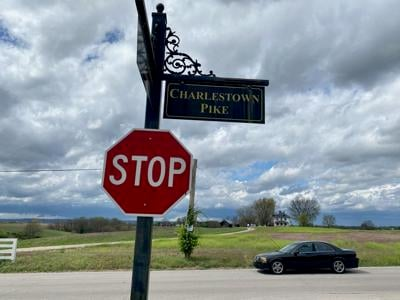stop: (105, 131, 189, 210)
